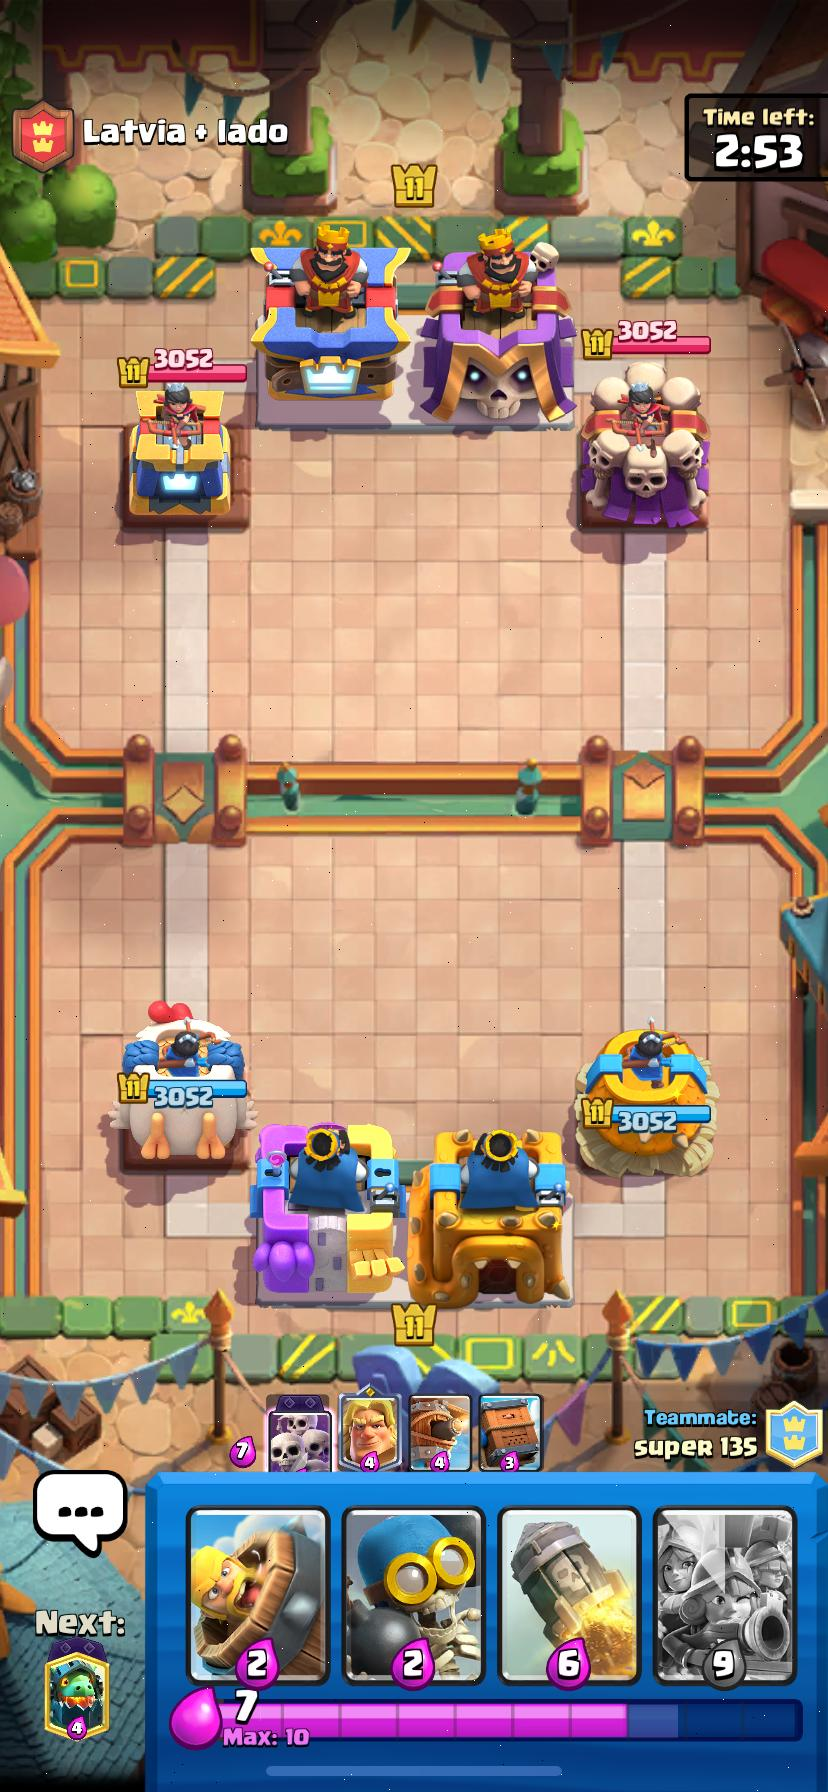EKingTower: (424, 227, 573, 421), (252, 224, 409, 399)
EnemyPrincessTower: (580, 363, 708, 528), (124, 384, 230, 522)
OwnKingTower: (407, 1129, 571, 1305), (253, 1123, 403, 1302)
OwnPrincessTower: (578, 1019, 716, 1173), (117, 1017, 253, 1159)
